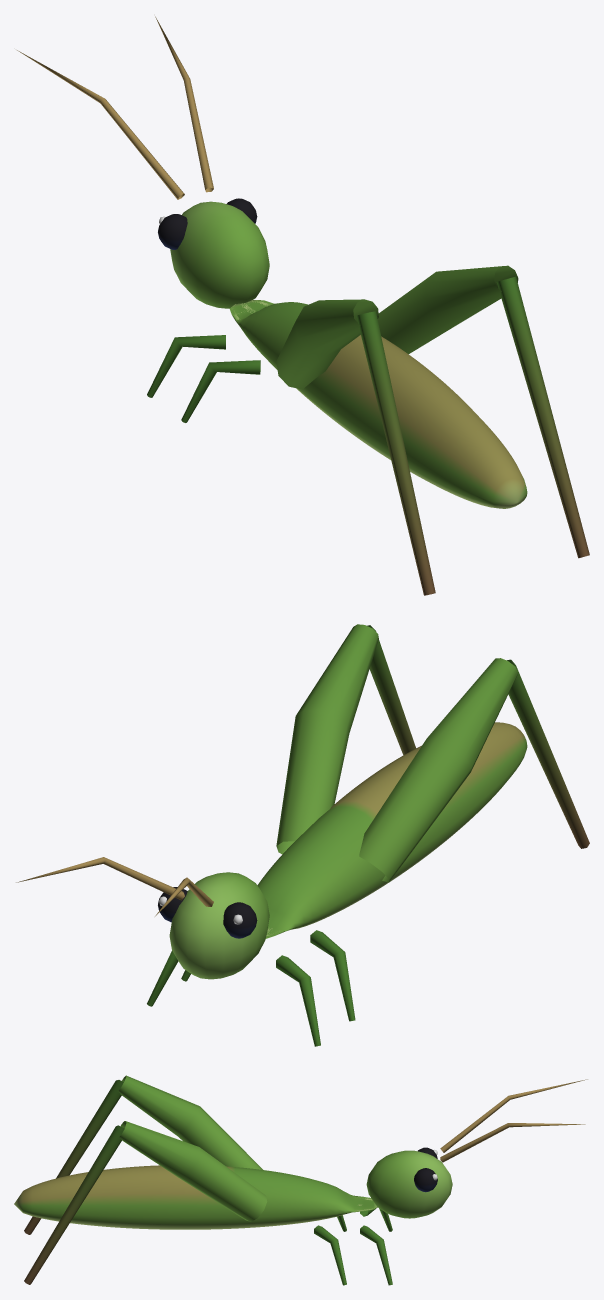
The model's file is Grasshopper.fbx.
3 renders of one model, top to bottom at view 1: azimuth 30°, elevation 25°; view 2: azimuth 150°, elevation 25°; view 3: azimuth 270°, elevation 25°, orthographic. The views are drawn at different scales.
Visible parts, largest first — view 1: Grasshopper; view 2: Grasshopper; view 3: Grasshopper.
Part boxes in pixels (x1,y1,x2,y2): Grasshopper: [17, 16, 589, 595]; Grasshopper: [16, 624, 589, 1046]; Grasshopper: [14, 1075, 587, 1285].
Bounding box in the file's own units: 0.4971 × 0.6574 × 2.14.
